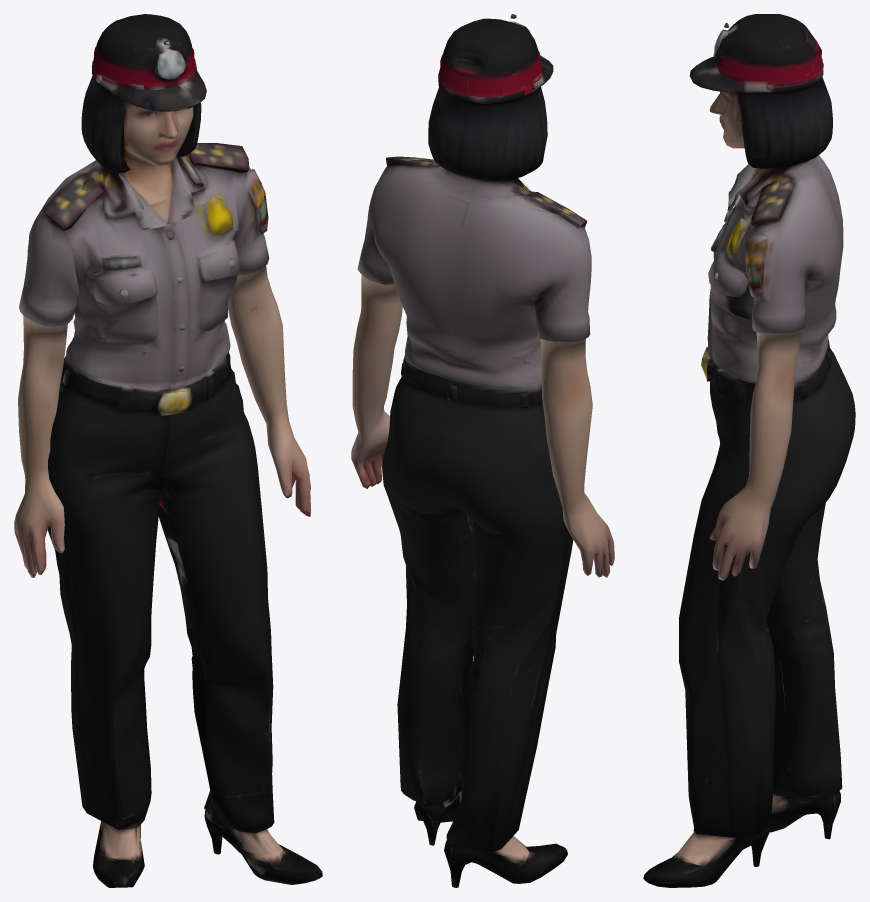
The model's file is polwan_idle.glb.
3 renders of one model, left to right at view 1: azimuth 30°, elevation 25°; view 2: azimuth 150°, elevation 25°; view 3: azimuth 270°, elevation 25°, orthographic. The views are drawn at different scales.
Visible parts, largest first — view 1: tripo_node_8e05bf5d; view 2: tripo_node_8e05bf5d; view 3: tripo_node_8e05bf5d.
Part boxes in pixels (x1=…): tripo_node_8e05bf5d: x1=14, y1=14, x2=322, y2=887; tripo_node_8e05bf5d: x1=351, y1=14, x2=614, y2=887; tripo_node_8e05bf5d: x1=643, y1=14, x2=855, y2=887.
Size of the model in its own units: 32.92 by 99.57 by 23.55.
1 material, 1 textured.
